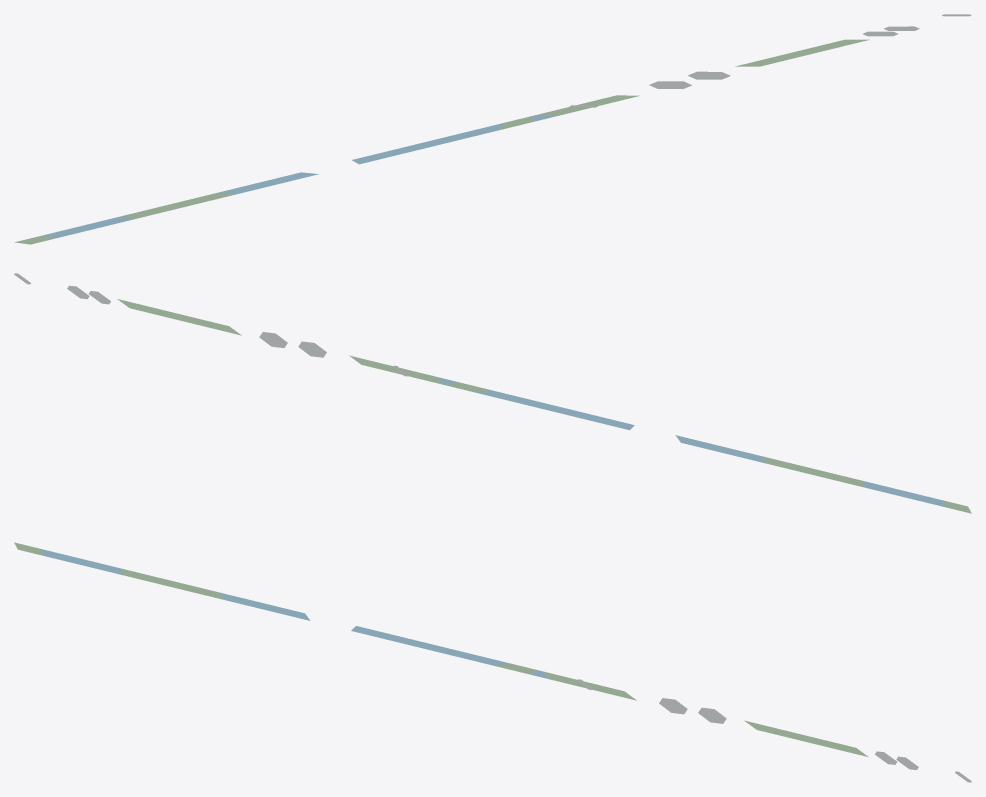
The model's file is 0_-2-known-coarse.glb.
3 renders of one model, top to bottom at view 1: azimuth 30°, elevation 25°; view 2: azimuth 150°, elevation 25°; view 3: azimuth 330°, elevation 25°, orthographic.
Size of the model in its own units: 709 by 0.1 by 18.62.
